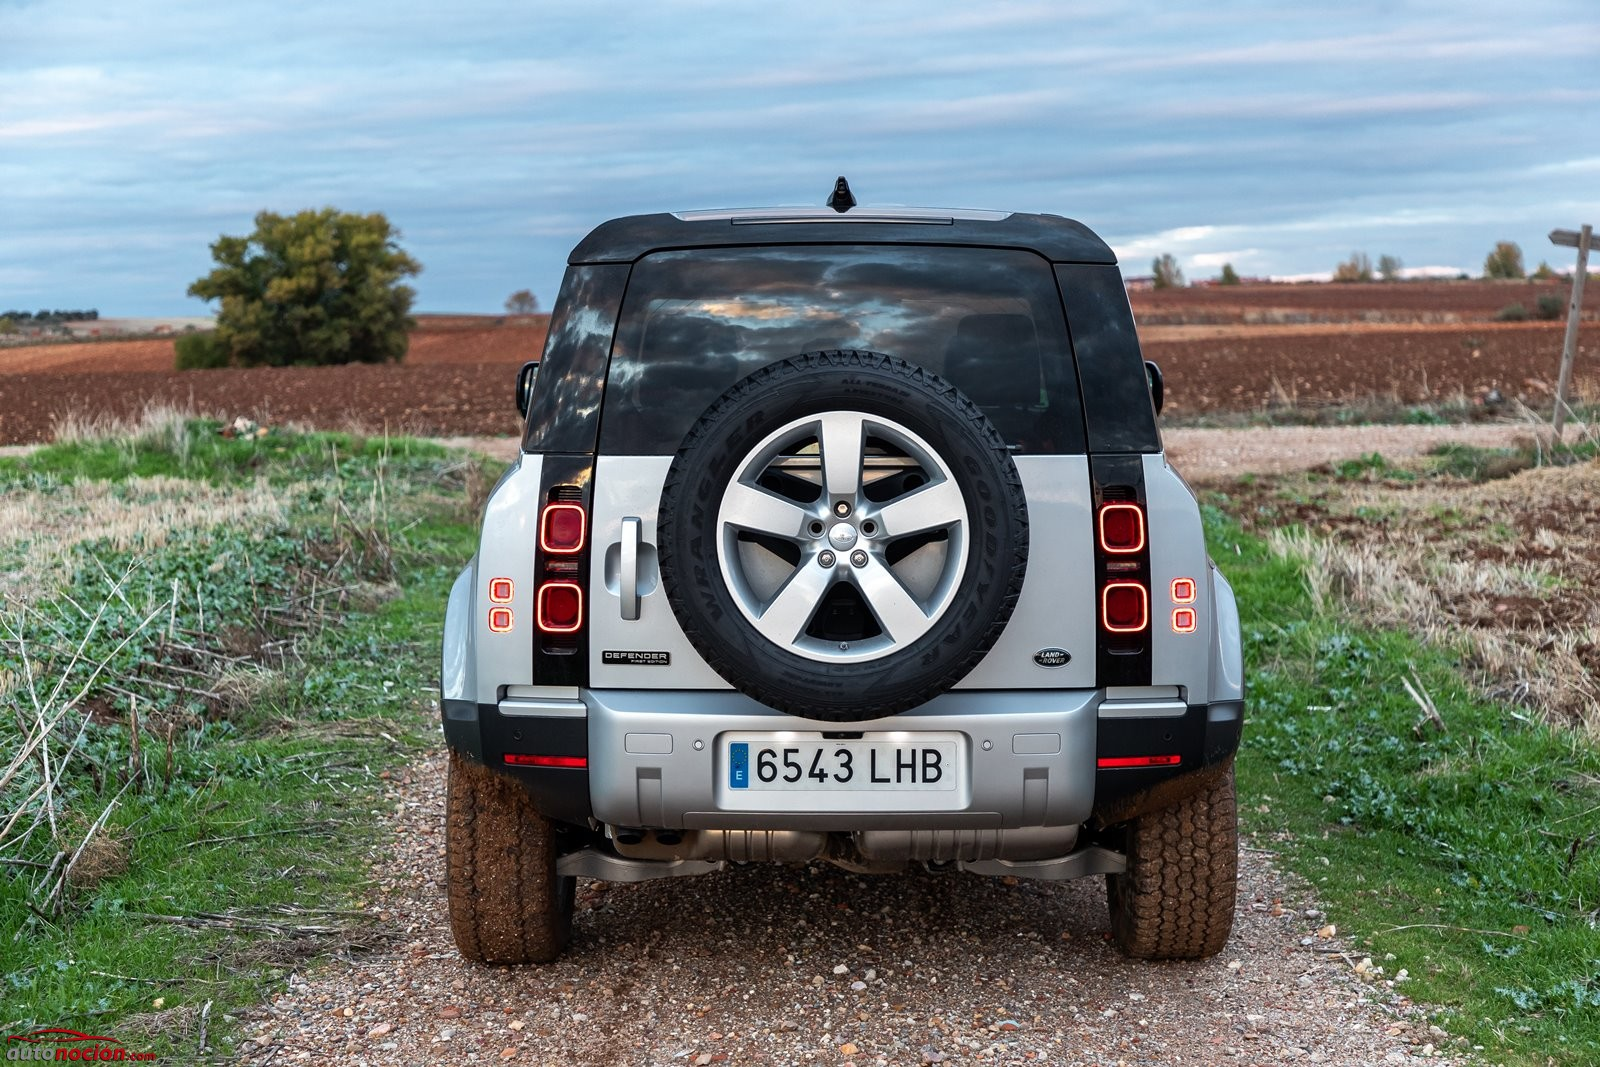Vehiculo: (431, 173, 1271, 982)
